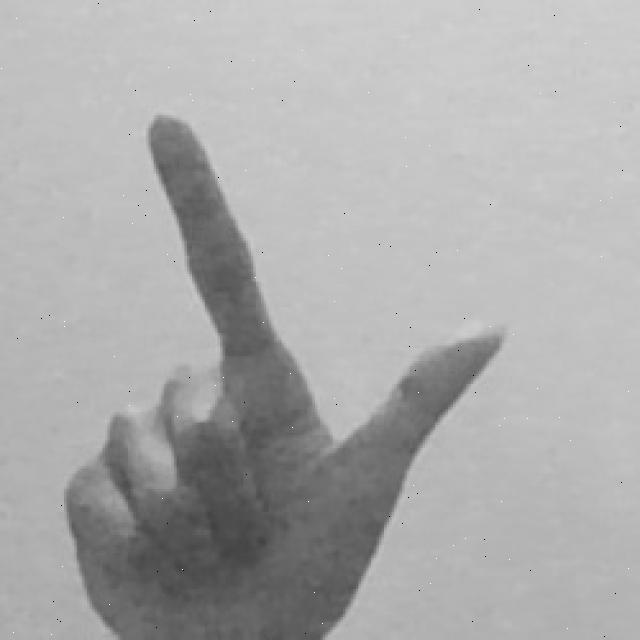L: (56, 104, 522, 616)
